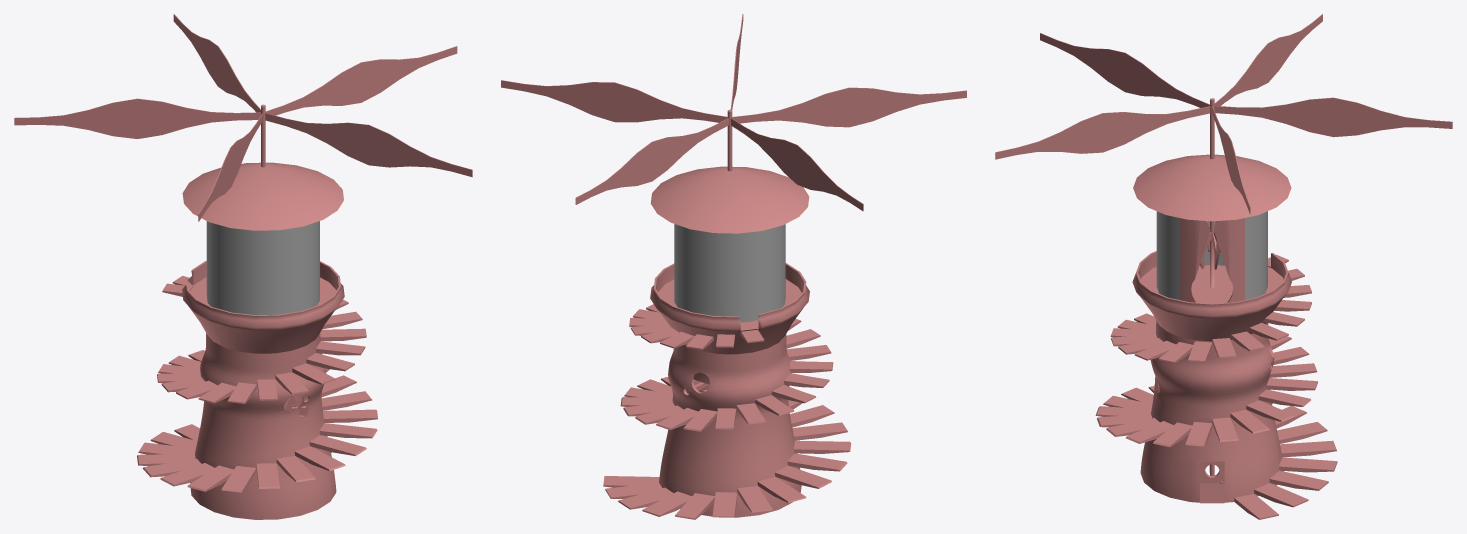
The model's file is slick_windmill.fbx.
3 renders of one model, left to right at view 1: azimuth 30°, elevation 25°; view 2: azimuth 150°, elevation 25°; view 3: azimuth 270°, elevation 25°, orthographic. The views are drawn at different scales.
Visible parts, largest first — view 1: pCone4, pCylinder5; view 2: pCone4, pCylinder5; view 3: pCone4, pCylinder5, pasted__pCube2.
Part boxes in pixels (<box>): pCone4: <box>137,162,377,519</box>; pCylinder5: <box>14,14,472,416</box>; pCone4: <box>603,166,851,519</box>; pCylinder5: <box>501,14,966,393</box>; pCone4: <box>1095,154,1337,519</box>; pCylinder5: <box>995,14,1452,475</box>; pasted__pCube2: <box>1200,461,1224,503</box>.
Bounding box in the file's own units: 94.91 × 89.88 × 94.91.
